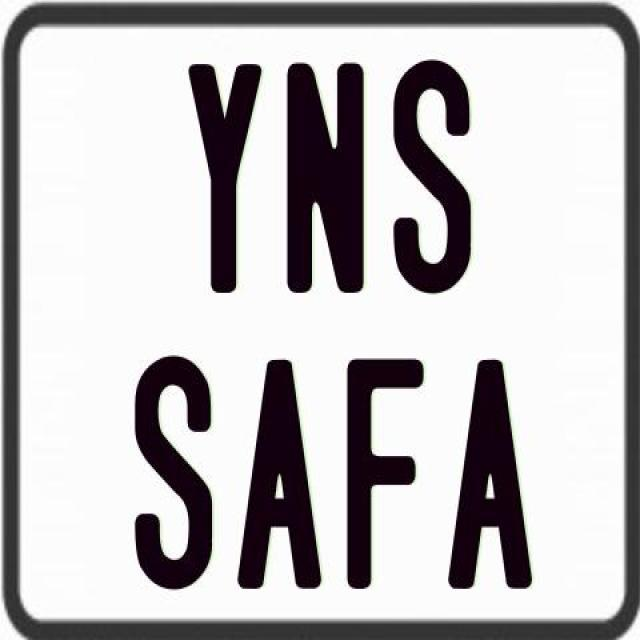A: (234, 357, 324, 596), (446, 358, 530, 594)
F: (345, 354, 428, 590)
N: (285, 63, 363, 300)
S: (133, 354, 219, 596), (392, 56, 476, 294)
Y: (186, 61, 262, 292)
